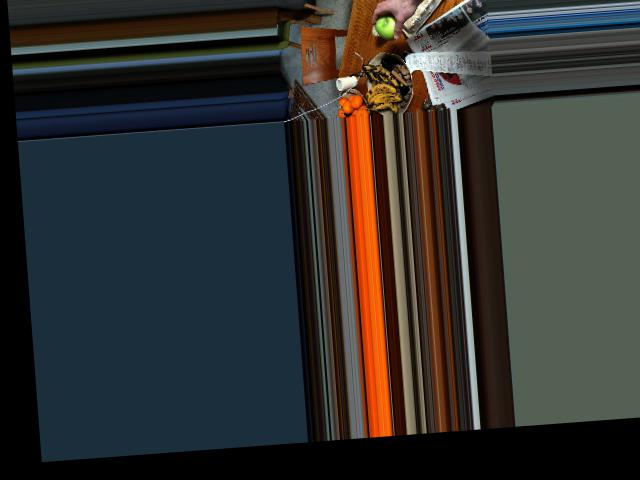apple: (373, 6, 405, 41)
